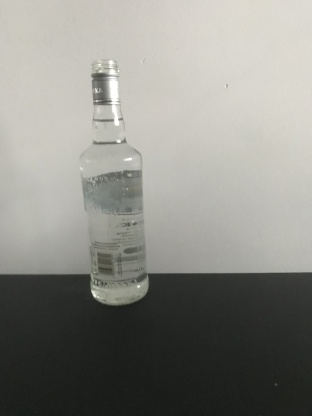nakretka: (89, 57, 122, 106)
